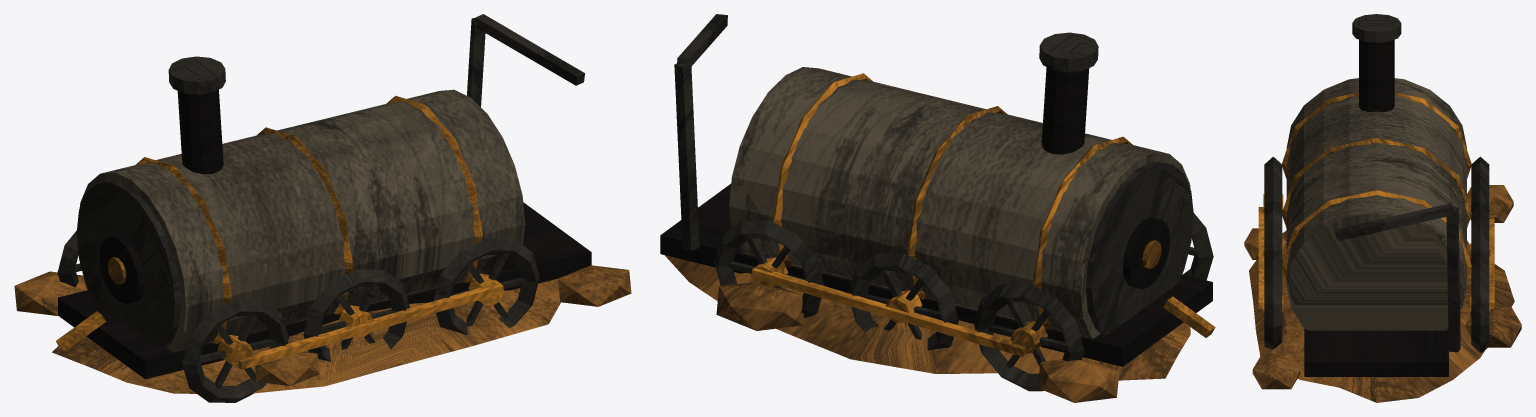
The model's file is half-buried-sleeper.glb.
3 views of the same model, side by side, from view 1: azimuth 30°, elevation 25°; view 2: azimuth 150°, elevation 25°; view 3: azimuth 270°, elevation 25° (orthographic). The views are drawn at different scales.
Visible parts, largest first — view 1: half-buried-sleeper; view 2: half-buried-sleeper; view 3: half-buried-sleeper.
Boxes of the visible parts, x1=… form: half-buried-sleeper: x1=14, y1=14, x2=631, y2=402; half-buried-sleeper: x1=660, y1=14, x2=1215, y2=402; half-buried-sleeper: x1=1244, y1=14, x2=1521, y2=402.
Bounding box in the file's own units: 9.8 × 5.14 × 5.49.
1 material, 1 textured.
